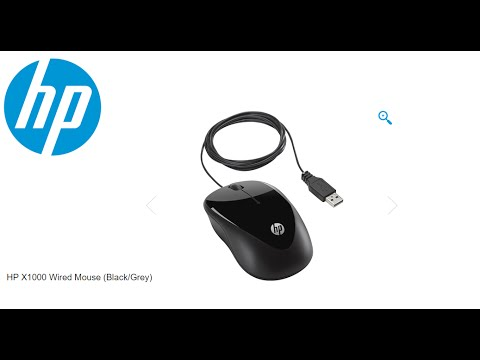hp-mouse-X1000: (201, 109, 340, 277)
